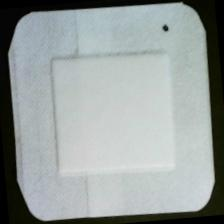Dressing: (1, 1, 224, 224)
F_Body: (157, 16, 180, 40)
